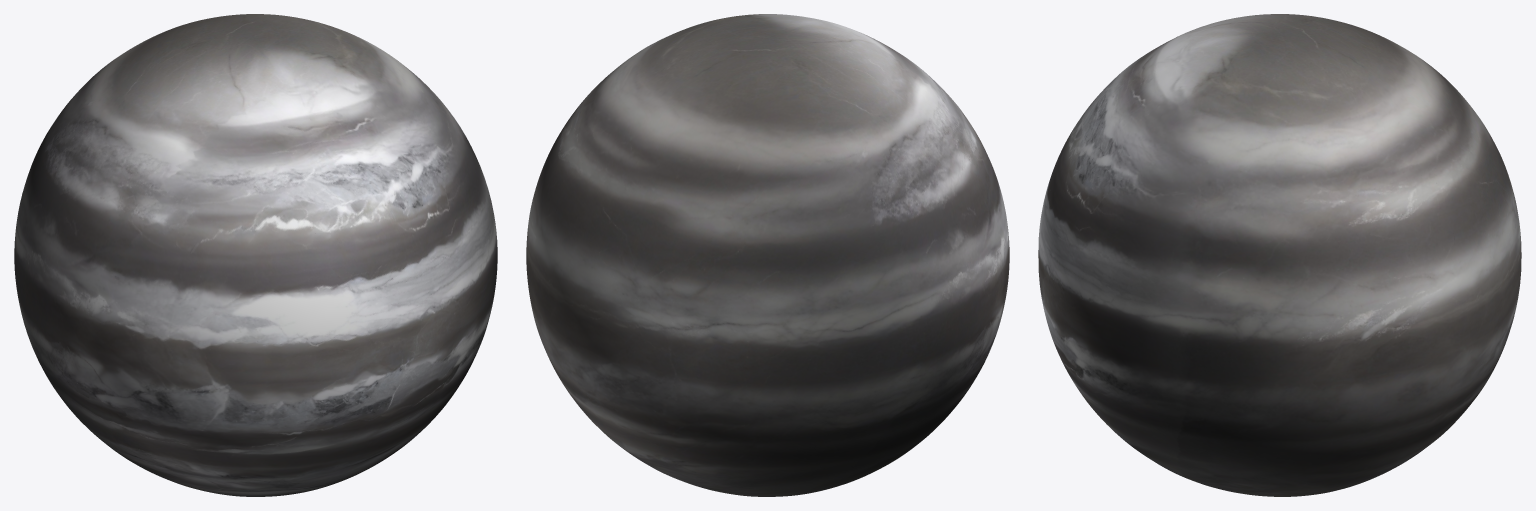
File: kik_0920035120.glb
The picture shows the model from 3 angles, left to right: view 1: azimuth 30°, elevation 25°; view 2: azimuth 150°, elevation 25°; view 3: azimuth 270°, elevation 25°; orthographic projection.
Size of the model in its own units: 2 by 2 by 2.
1 material, 1 textured.
